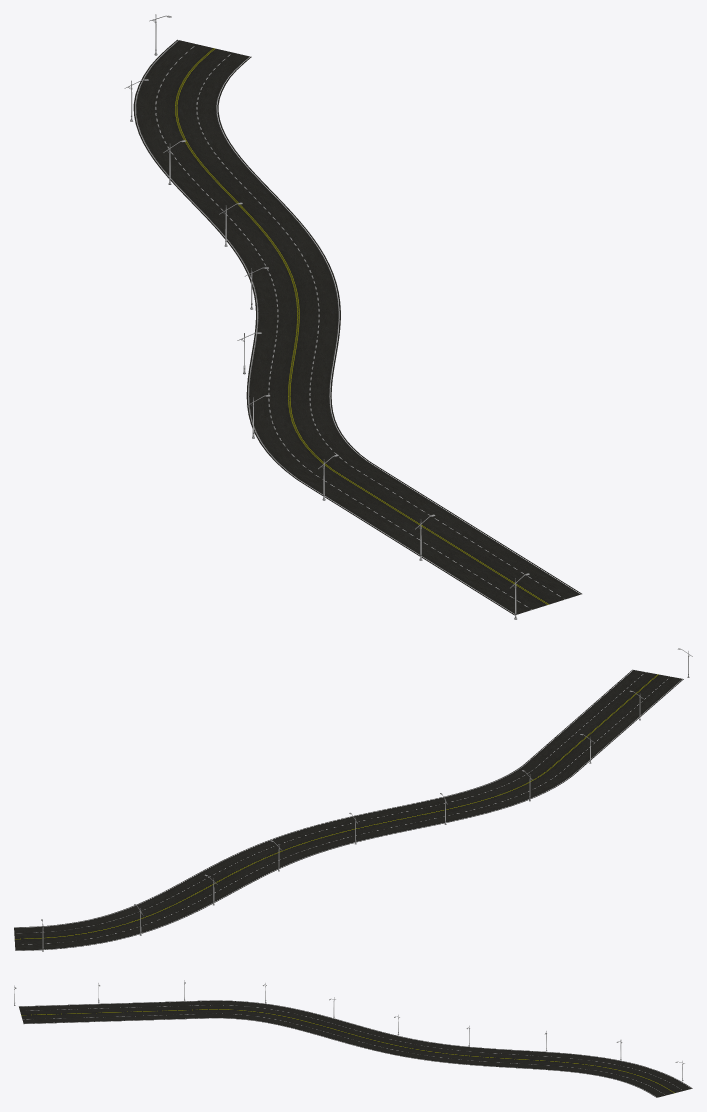
The model's file is road.glb.
3 views of the same model, one above another, from view 1: azimuth 30°, elevation 25°; view 2: azimuth 150°, elevation 25°; view 3: azimuth 270°, elevation 25° (orthographic). The views are drawn at different scales.
Parts seen in each view (by area): view 1: Plane_3; view 2: Plane_3; view 3: Plane_3.
Boxes of the visible parts, x1,y1,x2,y2 form: Plane_3: (133, 39, 581, 615); Plane_3: (14, 669, 683, 950); Plane_3: (19, 1000, 692, 1097).
Size of the model in its own units: 61.88 by 6.03 by 179.
Materials: 3 (1 with a texture image).
